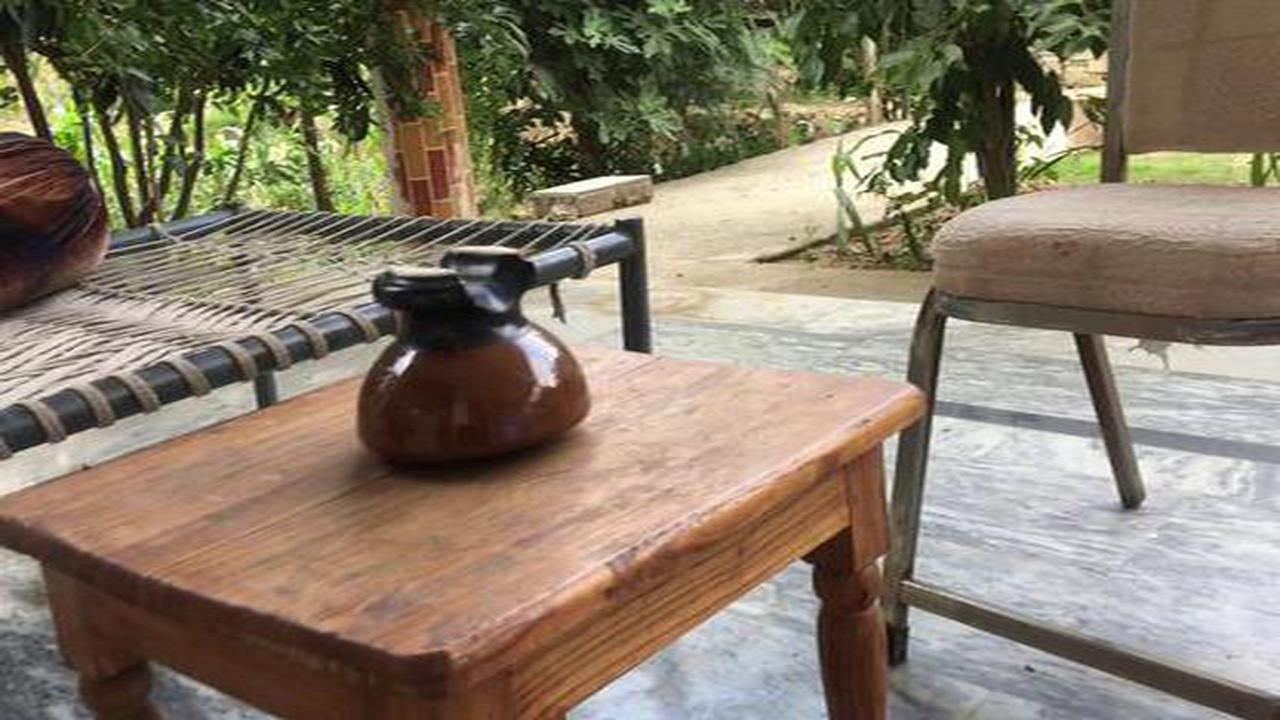insulator_pin: (342, 234, 604, 482)
